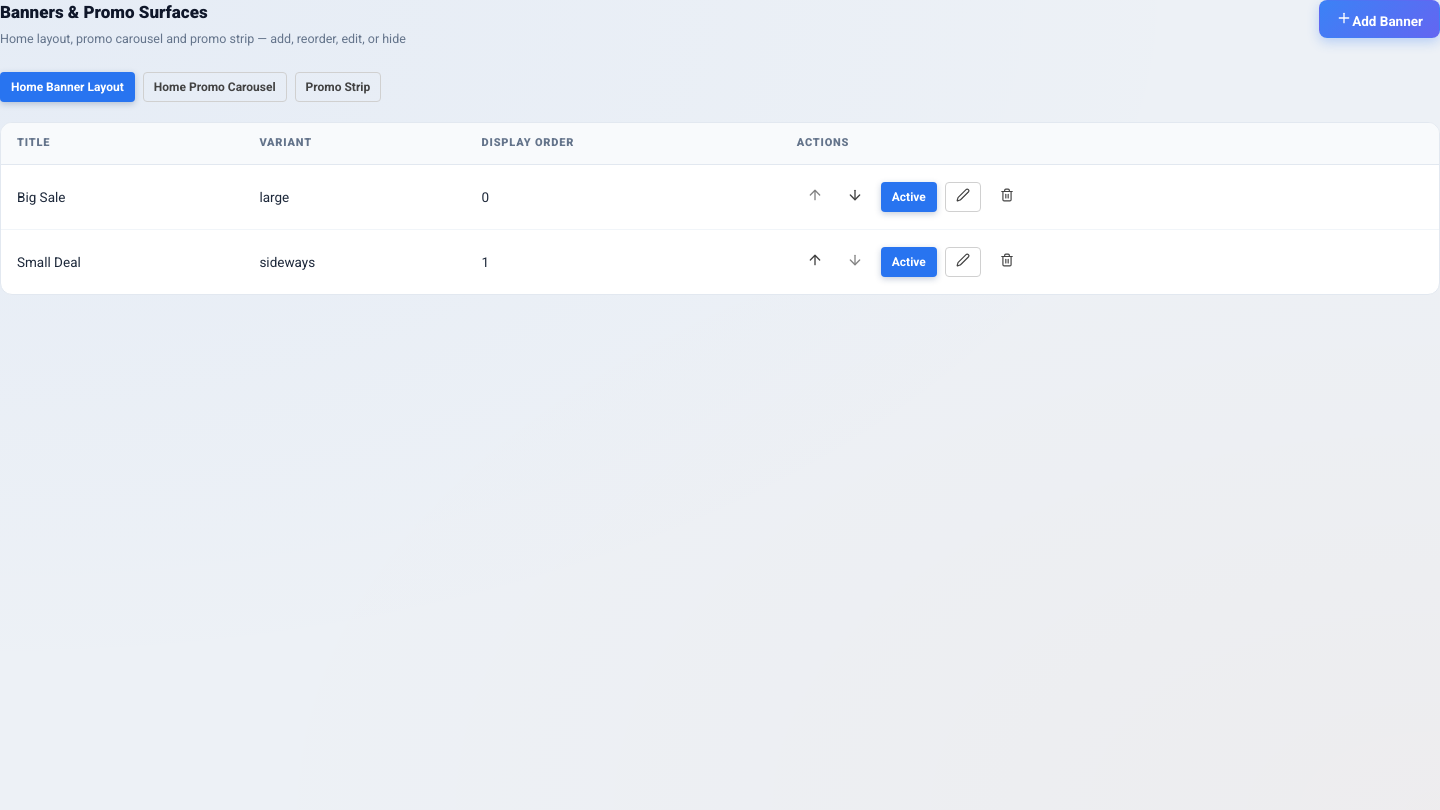
Test: BannersEditor › reports a no-op save without writing or broadcasting
Check: the text "Big Sale" is shown, box [1,164,243,229]
Click the button named "Edit Big Sale" at (963, 197), box [945,182,981,212]
(page scrolled)
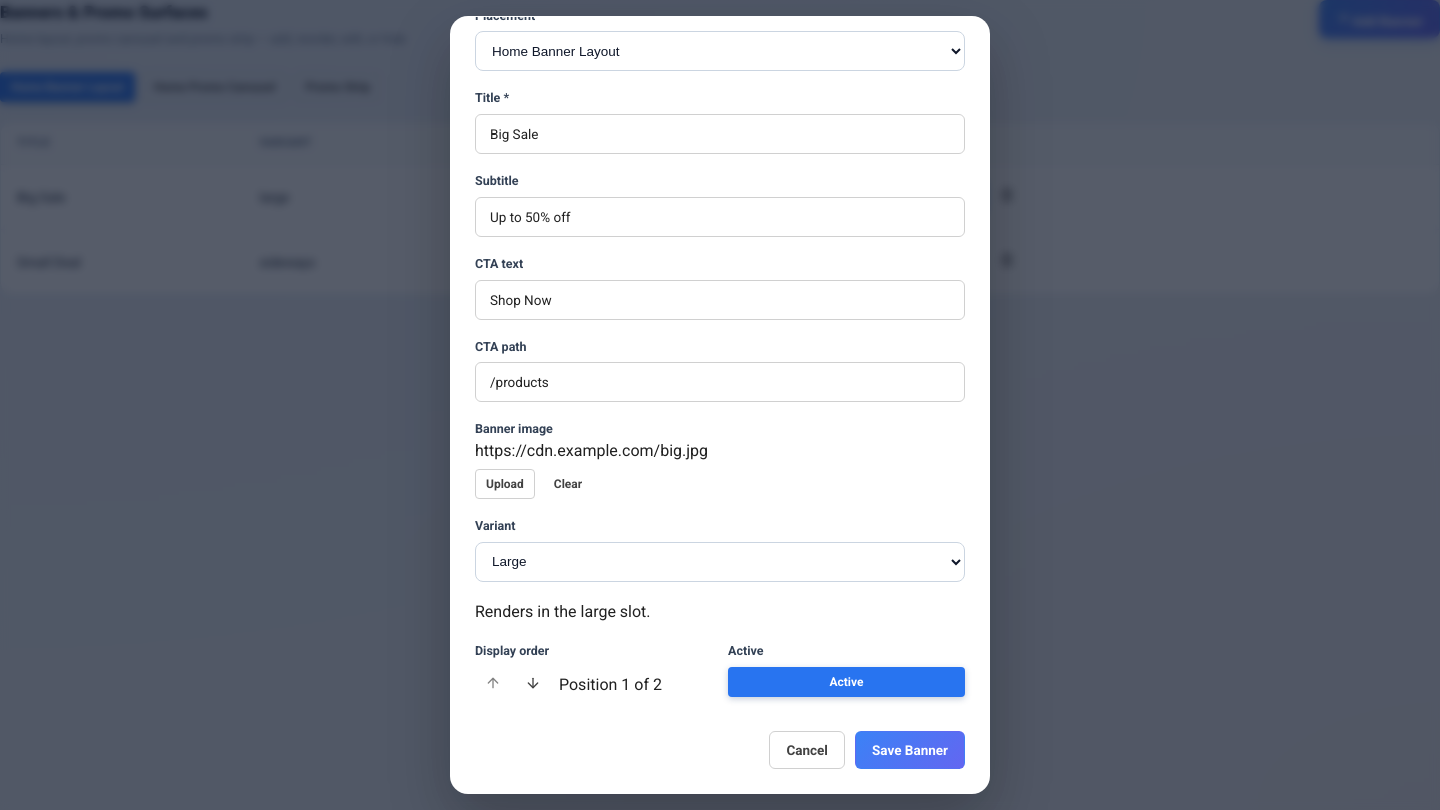
Click the button "Save Banner" at (910, 750), box [855,730,965,768]
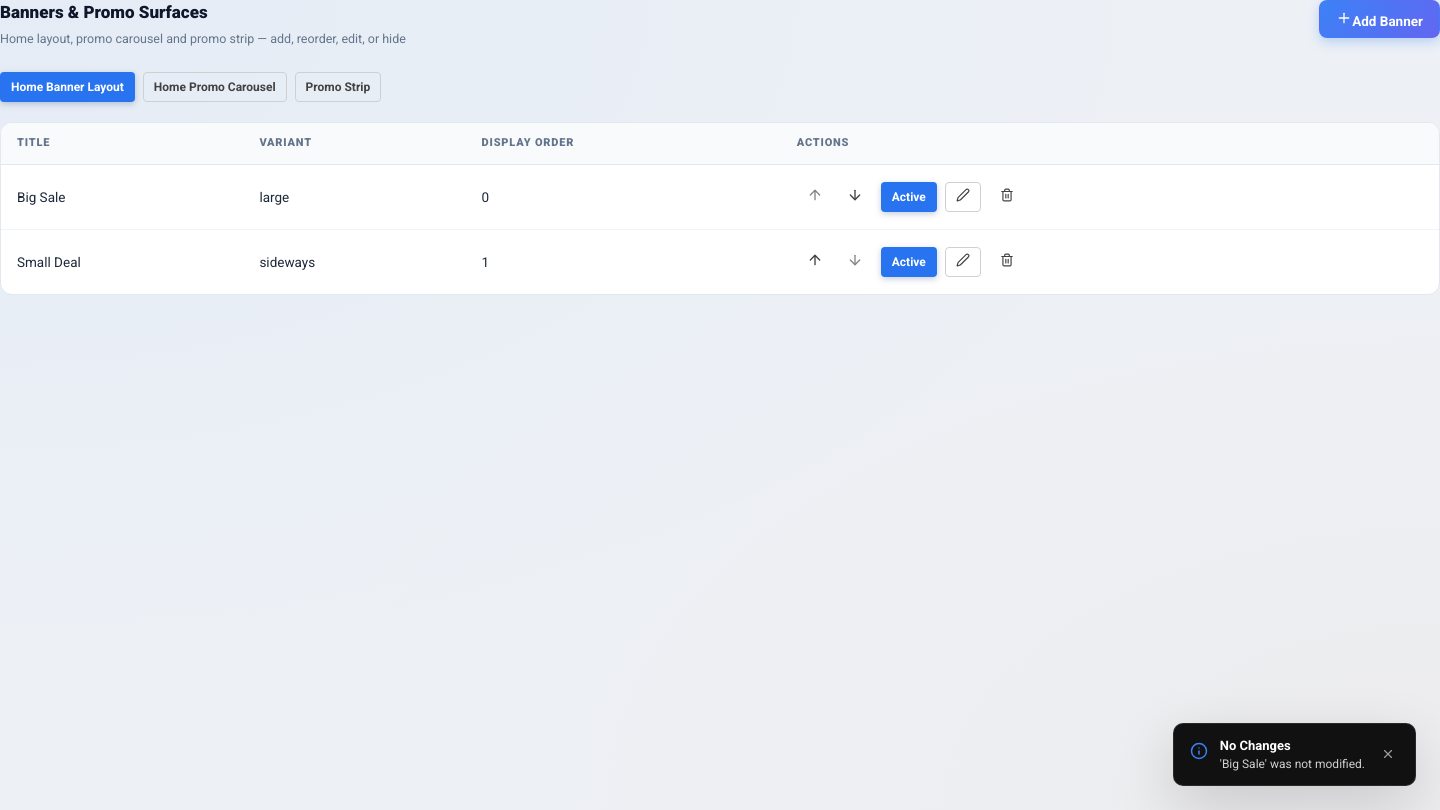
Check: the text "No Changes" is shown, box [1220,738,1291,752]
Check: the text "'Big Sale' was not modified." is shown, box [1220,755,1365,773]
